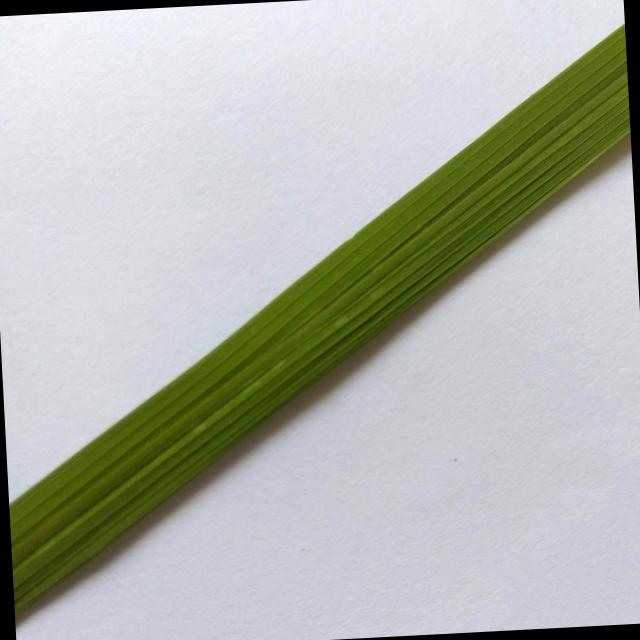Rice_Healthy: (9, 27, 630, 613)
